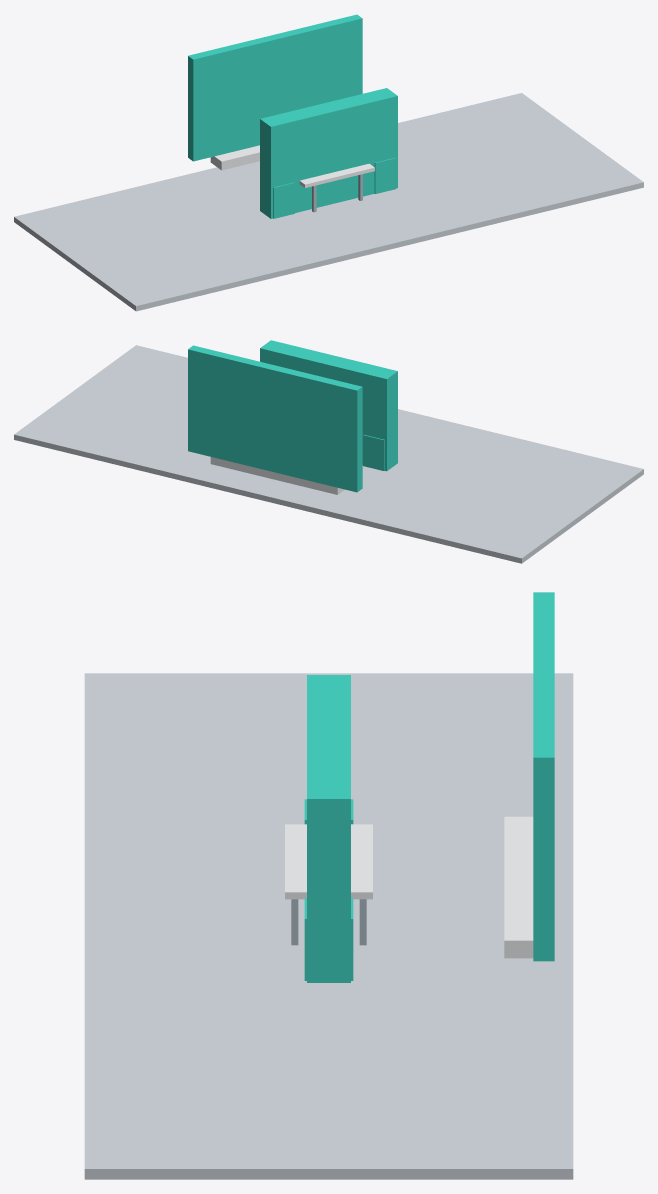
The picture shows the model from 3 angles, top to bottom: view 1: azimuth 30°, elevation 25°; view 2: azimuth 150°, elevation 25°; view 3: azimuth 270°, elevation 25°; orthographic projection. The views are drawn at different scales.
Visible parts, largest first — view 1: Exhibition Booth Concept; view 2: Exhibition Booth Concept; view 3: Exhibition Booth Concept.
Boxes of the visible parts, <box> form: Exhibition Booth Concept: <box>14,14,643,311</box>; Exhibition Booth Concept: <box>14,340,643,563</box>; Exhibition Booth Concept: <box>84,592,573,1179</box>.
Bounding box in the file's own units: 12 × 2.9 × 5.
